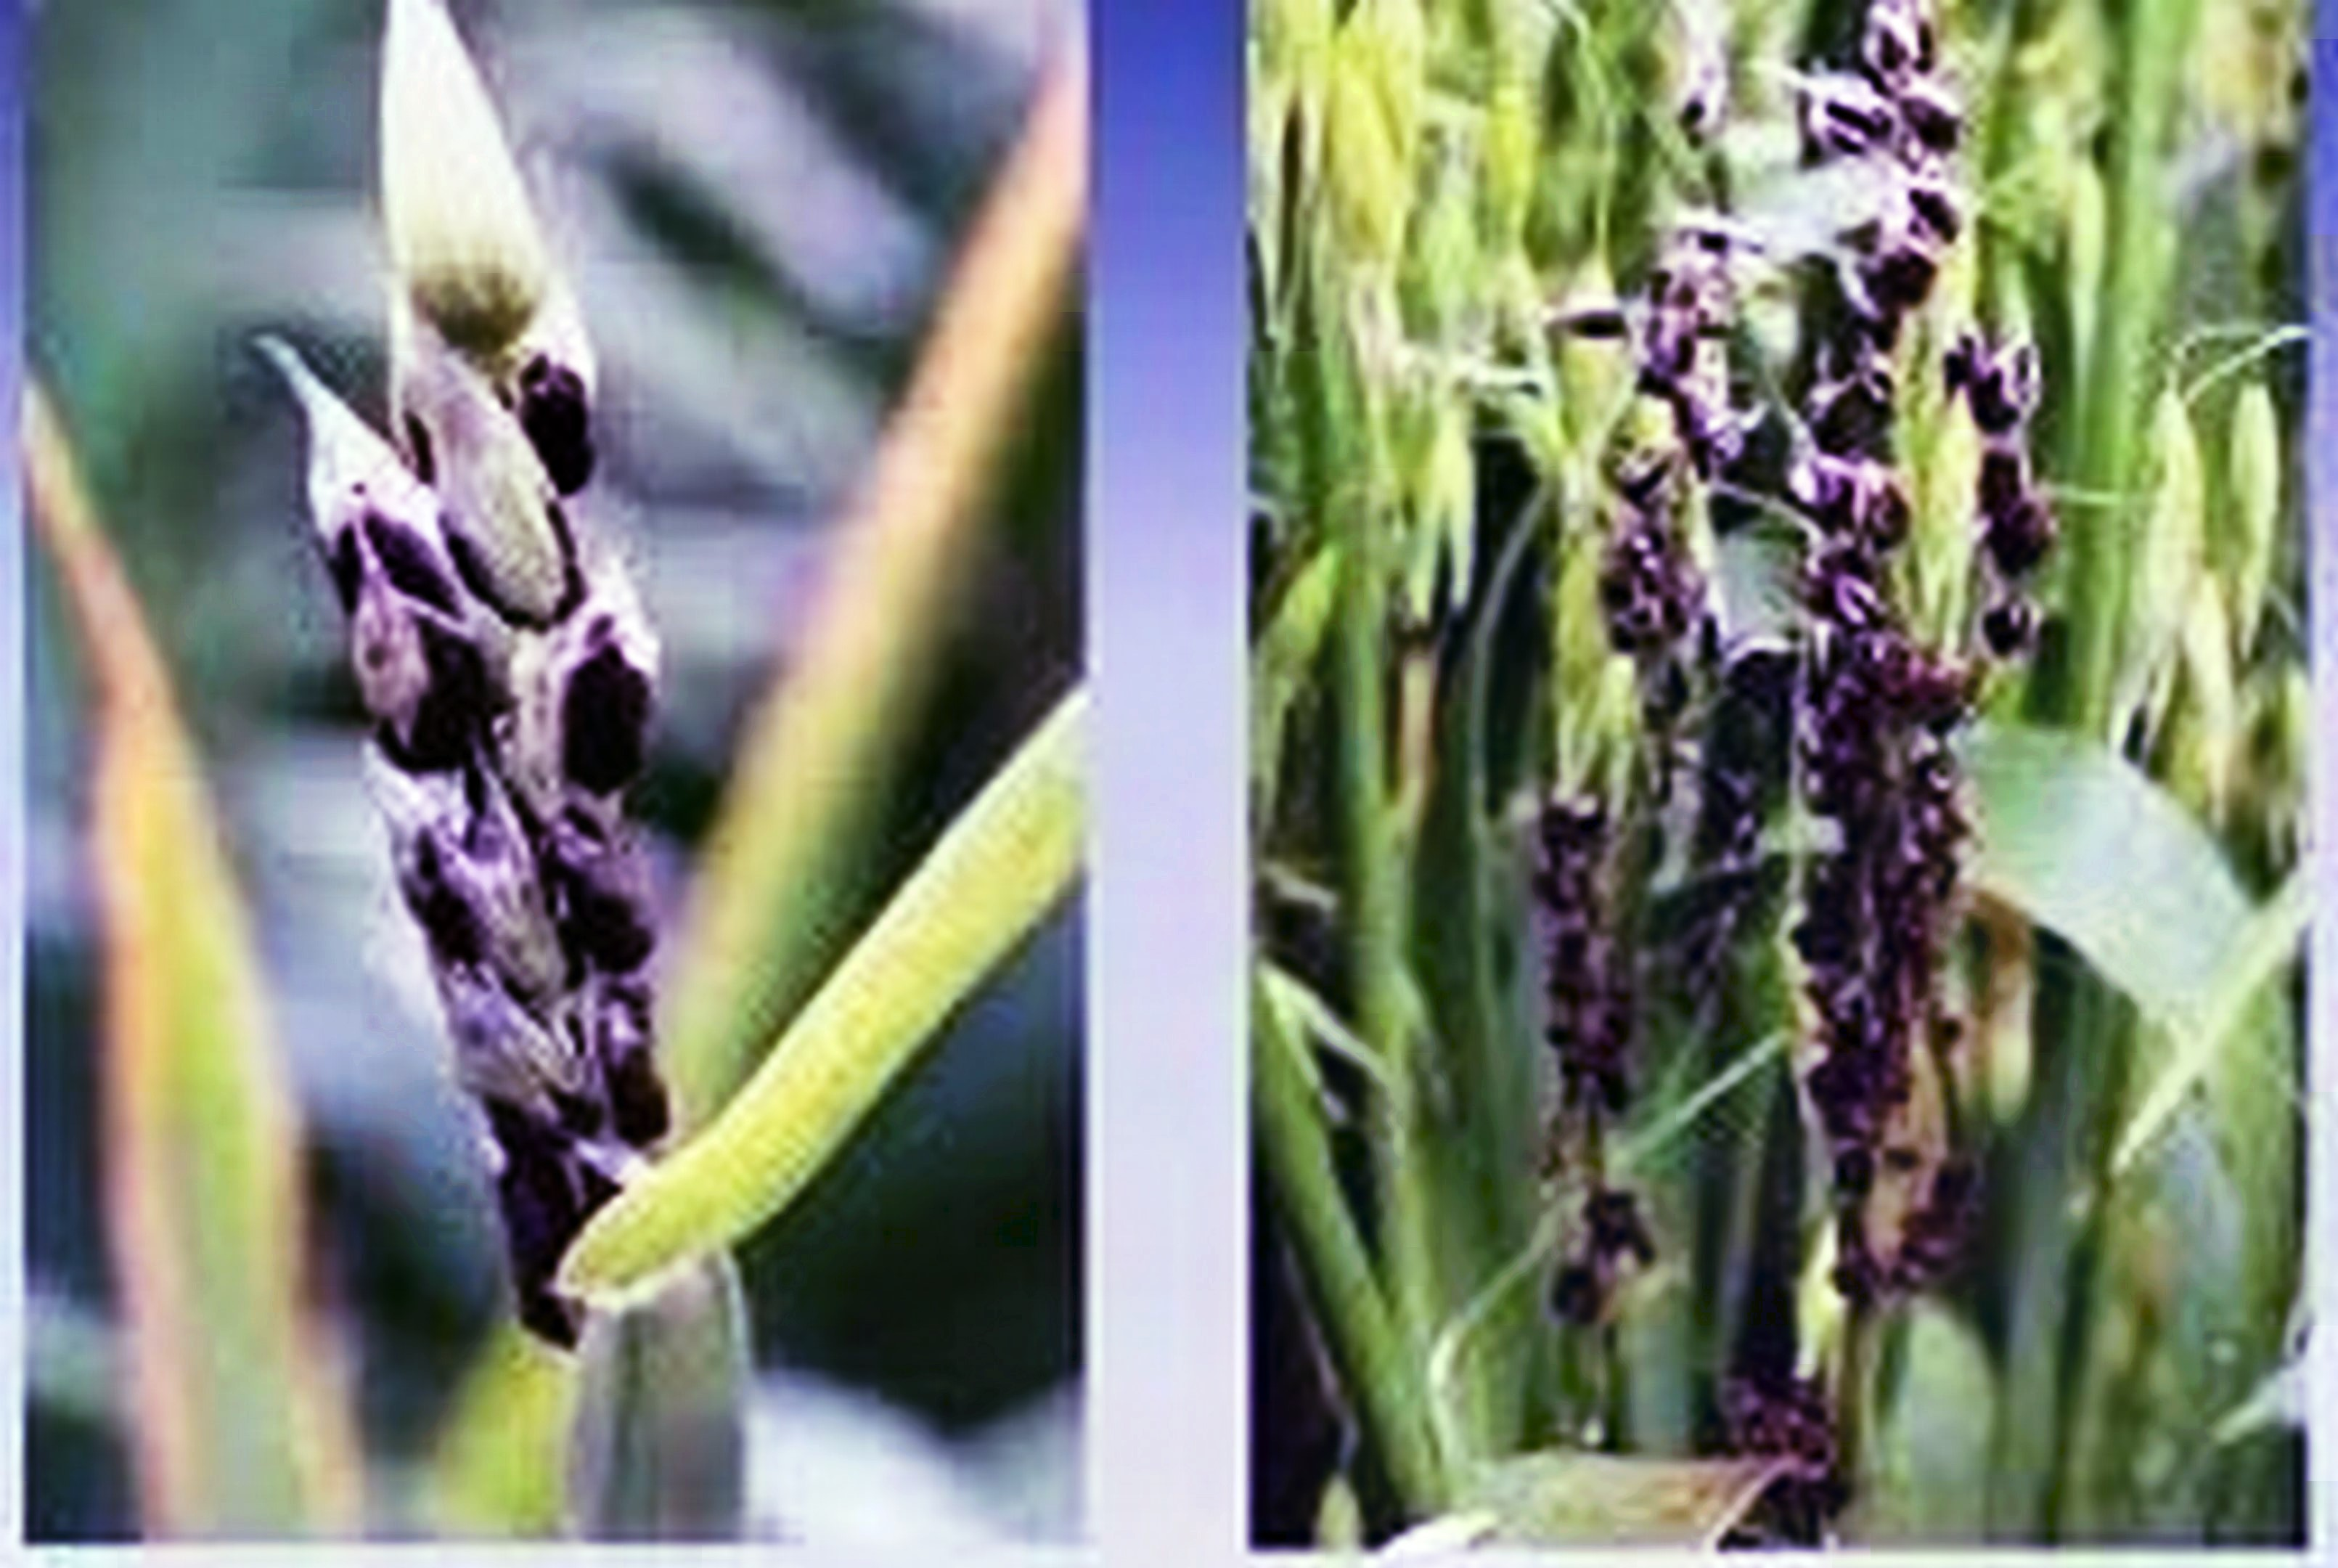Wheat Loose Smut: (1568, 170, 2032, 1319)
